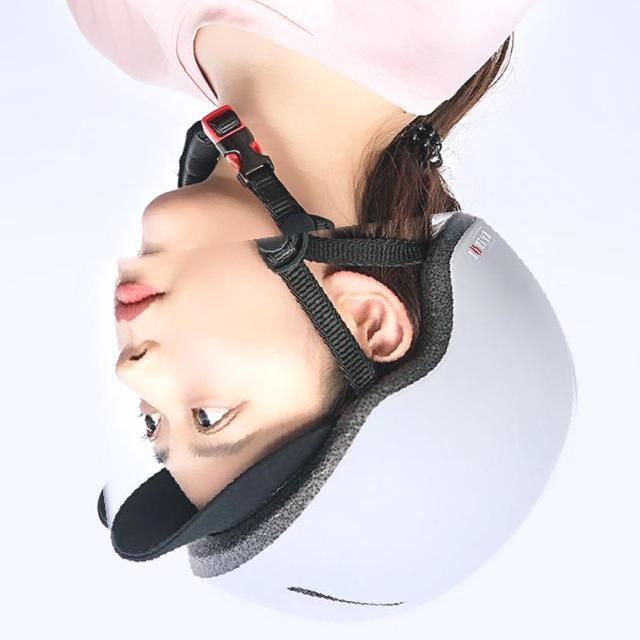helmet: (84, 214, 590, 640)
